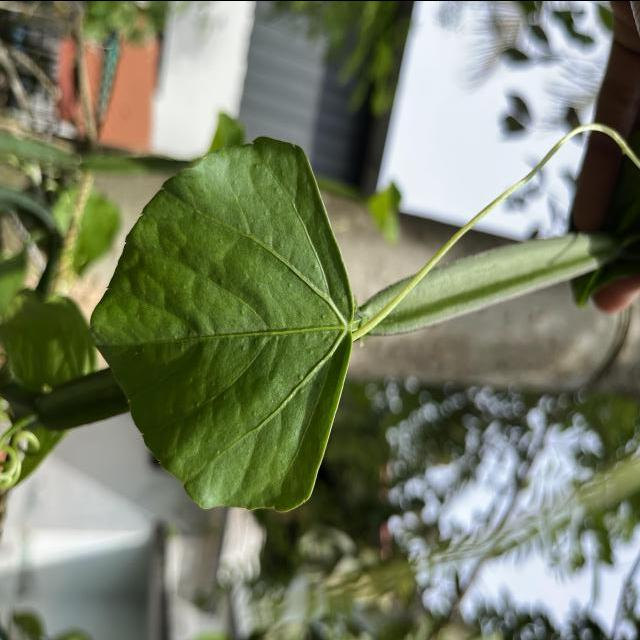Cissus quadrangularis: (86, 133, 360, 514)
